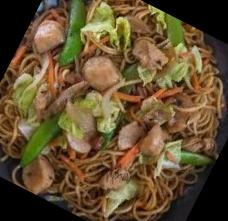pancit bihon: (0, 0, 224, 220)
